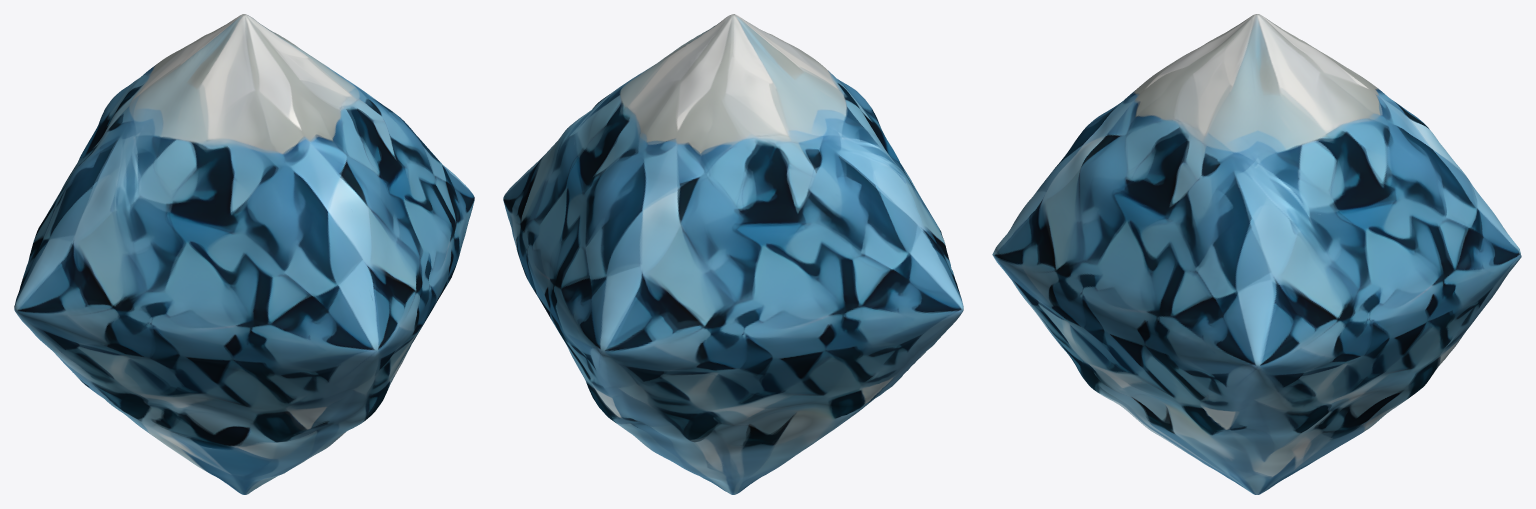
File: base_basic_pbr.glb
The picture shows the model from 3 angles, left to right: view 1: azimuth 30°, elevation 25°; view 2: azimuth 150°, elevation 25°; view 3: azimuth 270°, elevation 25°; orthographic projection.
Parts seen in each view (by area): view 1: model; view 2: model; view 3: model.
Boxes of the visible parts, left/top/right/bottom form: model: left=14, top=14, right=474, bottom=494; model: left=503, top=14, right=963, bottom=494; model: left=992, top=14, right=1521, bottom=494.
Size of the model in its own units: 1.9 by 1.9 by 1.9.
Materials: 1 (1 with a texture image).
